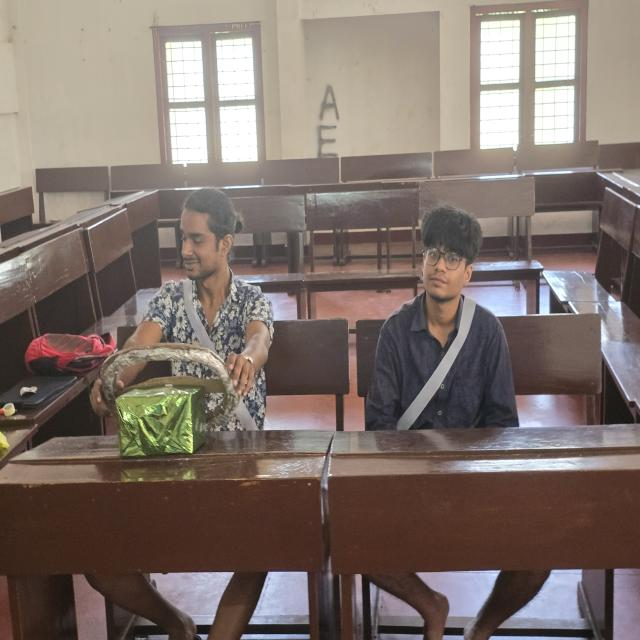seatbelt: (392, 307, 498, 433), (162, 288, 249, 357)
